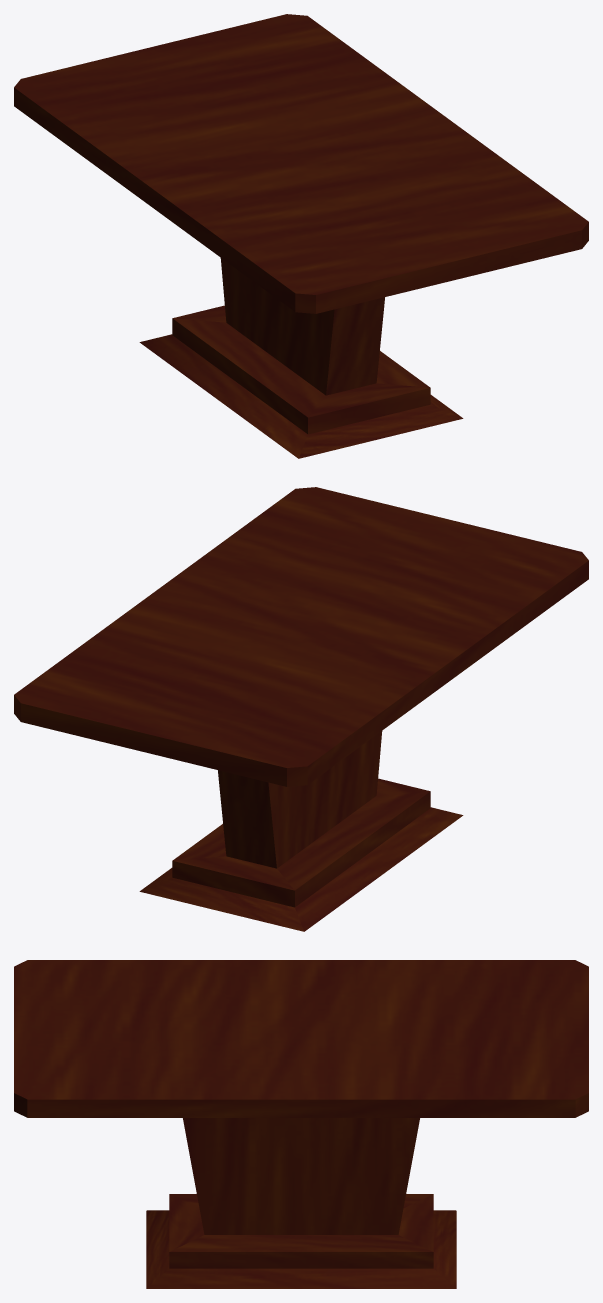
The model's file is Table 3.fbx.
3 views of the same model, one above another, from view 1: azimuth 30°, elevation 25°; view 2: azimuth 150°, elevation 25°; view 3: azimuth 270°, elevation 25° (orthographic). The views are drawn at different scales.
Visible parts, largest first — view 1: Table_3; view 2: Table_3; view 3: Table_3.
Part boxes in pixels (x1,y1,x2,y2): Table_3: [14, 14, 588, 458]; Table_3: [14, 487, 588, 931]; Table_3: [14, 960, 588, 1288].
Bounding box in the file's own units: 138 × 101 × 240.
1 material, 1 textured.
